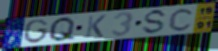3: (112, 11, 137, 38)
C: (168, 7, 196, 32)
G: (23, 18, 50, 44)
K: (84, 14, 108, 39)
Q: (47, 16, 78, 43)
S: (140, 8, 169, 36)
